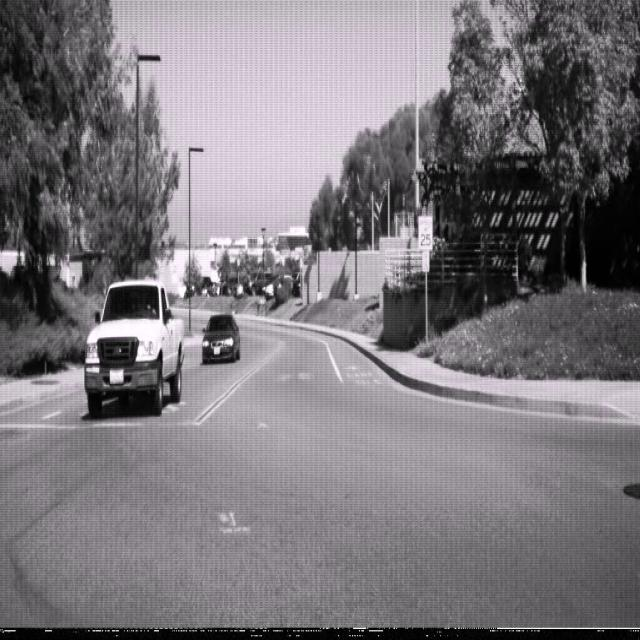speedLimit25: (418, 214, 432, 249)
